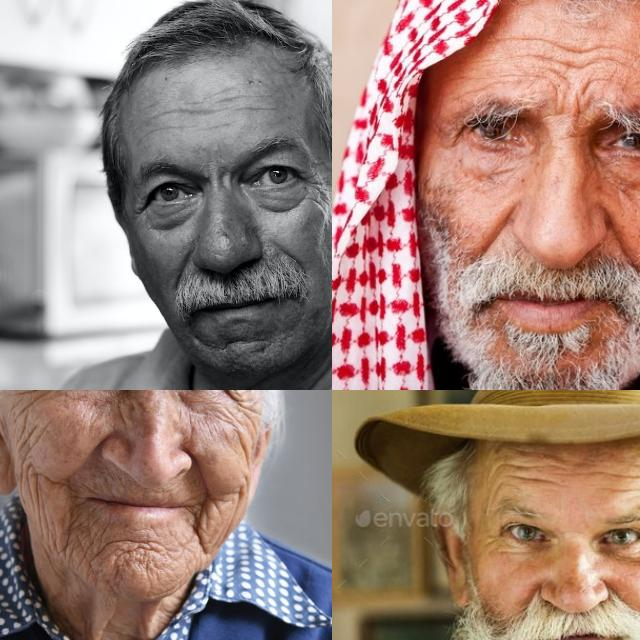bunny_line: (118, 393, 144, 427)
chin: (99, 532, 170, 570), (216, 334, 254, 354)
crows_feet: (225, 390, 255, 431), (436, 119, 468, 148), (15, 390, 69, 403), (482, 526, 503, 558), (130, 198, 150, 220)
forehead: (539, 32, 595, 82), (164, 97, 212, 123), (504, 453, 540, 483), (597, 461, 640, 484), (137, 122, 179, 140), (607, 481, 640, 503), (238, 102, 284, 116), (220, 86, 252, 104)
frown_line: (552, 91, 588, 127), (300, 168, 324, 200)
gummy_smile: (475, 205, 515, 259), (187, 452, 216, 506), (73, 432, 113, 468), (603, 212, 631, 260), (170, 250, 192, 292), (277, 244, 307, 272)
masseter: (19, 427, 49, 517), (230, 426, 260, 474), (230, 475, 250, 519)
sad_smile: (64, 483, 85, 537), (189, 506, 213, 550)
